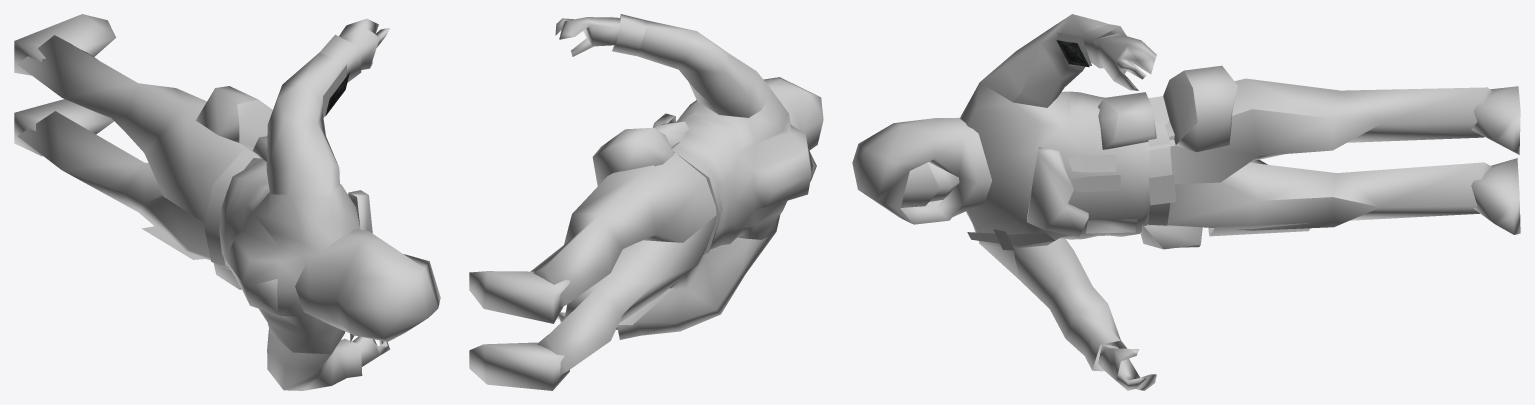
Rendered from c_mul_mp_pmc_sniper_fb_LOD3.obj.
3 views of the same model, side by side, from view 1: azimuth 30°, elevation 25°; view 2: azimuth 150°, elevation 25°; view 3: azimuth 270°, elevation 25° (orthographic). The views are drawn at different scales.
Parts seen in each view (by area): view 1: mtl_c_mul_mp_pmc_snip_gear, mtl_c_mul_mp_pmc_lbr_2_1, mtl_c_mul_mp_pmc_upperbody2, mtl_c_mul_mp_pmc_gear_main_1, mtl_c_mul_mp_pmc_gloves2; view 2: mtl_c_mul_mp_pmc_lbr_2_1, mtl_c_mul_mp_pmc_snip_gear, mtl_c_mul_mp_pmc_upperbody2, mtl_c_mul_mp_pmc_gear_main_1, mtl_c_mul_mp_pmc_gloves2; view 3: mtl_c_mul_mp_pmc_snip_gear, mtl_c_mul_mp_pmc_lbr_2_1, mtl_c_mul_mp_pmc_upperbody2, mtl_c_mul_mp_pmc_gear_main_1, mtl_c_mul_mp_pmc_gloves2.
Boxes of the visible parts, <box> form: mtl_c_mul_mp_pmc_snip_gear: <box>196,34,440,390</box>; mtl_c_mul_mp_pmc_lbr_2_1: <box>17,35,249,260</box>; mtl_c_mul_mp_pmc_upperbody2: <box>219,159,360,354</box>; mtl_c_mul_mp_pmc_gear_main_1: <box>14,14,354,342</box>; mtl_c_mul_mp_pmc_gloves2: <box>339,18,390,366</box>; mtl_c_mul_mp_pmc_lbr_2_1: <box>530,152,716,375</box>; mtl_c_mul_mp_pmc_snip_gear: <box>592,14,823,339</box>; mtl_c_mul_mp_pmc_upperbody2: <box>673,90,811,249</box>; mtl_c_mul_mp_pmc_gear_main_1: <box>469,150,816,390</box>; mtl_c_mul_mp_pmc_gloves2: <box>555,17,620,329</box>; mtl_c_mul_mp_pmc_snip_gear: <box>852,14,1237,371</box>; mtl_c_mul_mp_pmc_lbr_2_1: <box>1165,78,1493,230</box>; mtl_c_mul_mp_pmc_upperbody2: <box>960,82,1150,248</box>; mtl_c_mul_mp_pmc_gear_main_1: <box>967,86,1520,250</box>; mtl_c_mul_mp_pmc_gloves2: <box>1094,33,1156,390</box>.
Size of the model in its own units: 67.52 by 106 by 185.
